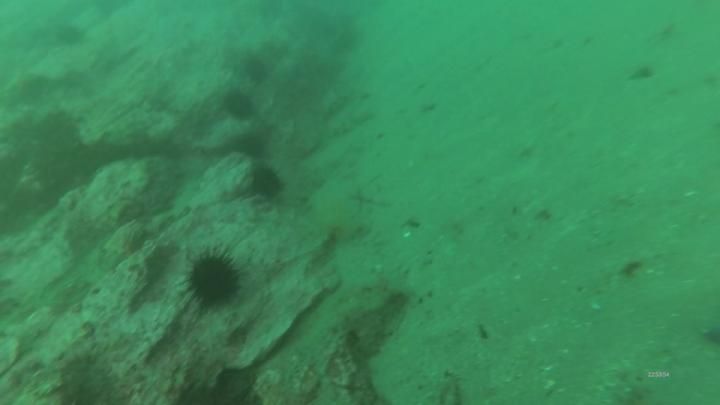echinus: (192, 257, 240, 307), (253, 169, 282, 200), (223, 93, 254, 120), (245, 57, 271, 85)
